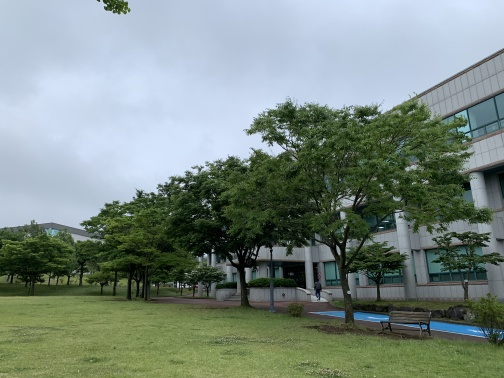Second Library: (224, 46, 504, 305)
